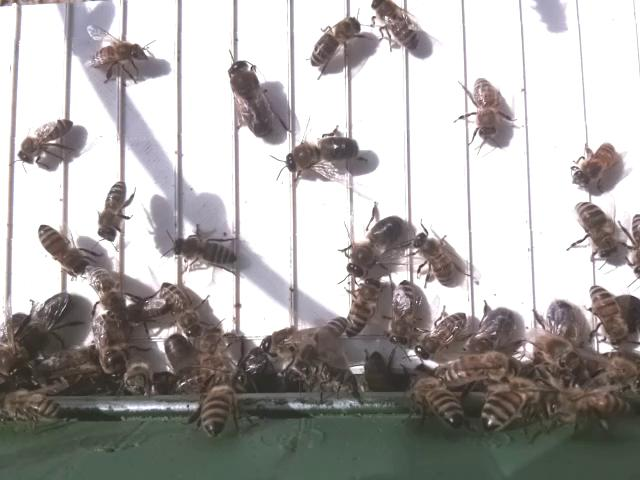Drone: (344, 212, 408, 281), (226, 57, 275, 142), (281, 133, 361, 173)
Worker: (572, 197, 619, 262), (306, 15, 361, 69), (14, 117, 74, 165), (413, 307, 468, 359), (162, 276, 205, 341), (410, 228, 456, 288), (368, 0, 421, 52), (341, 277, 384, 339), (85, 39, 152, 78), (36, 222, 84, 276), (587, 282, 625, 346), (170, 233, 238, 267), (386, 275, 416, 349), (570, 142, 616, 189), (96, 178, 127, 244), (470, 74, 500, 142)
